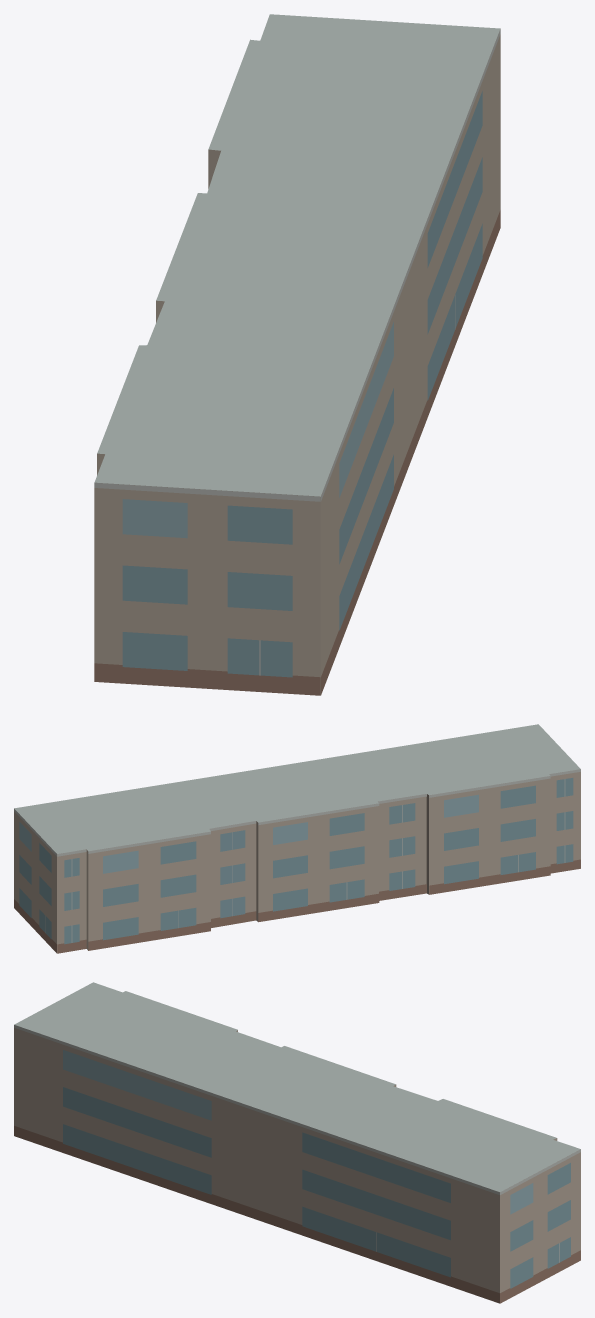
File: survey-upis-32769222.glb
3 views of the same model, one above another, from view 1: azimuth 30°, elevation 25°; view 2: azimuth 150°, elevation 25°; view 3: azimuth 270°, elevation 25° (orthographic). The views are drawn at different scales.
Parts seen in each view (by area): view 1: survey-upis-32769222.tmp; view 2: survey-upis-32769222.tmp; view 3: survey-upis-32769222.tmp.
Boxes of the visible parts, x1,y1,x2,y2 form: survey-upis-32769222.tmp: [94, 14, 500, 695]; survey-upis-32769222.tmp: [14, 724, 580, 953]; survey-upis-32769222.tmp: [14, 982, 580, 1303].
Size of the model in its own units: 37.02 by 9.15 by 42.22.
